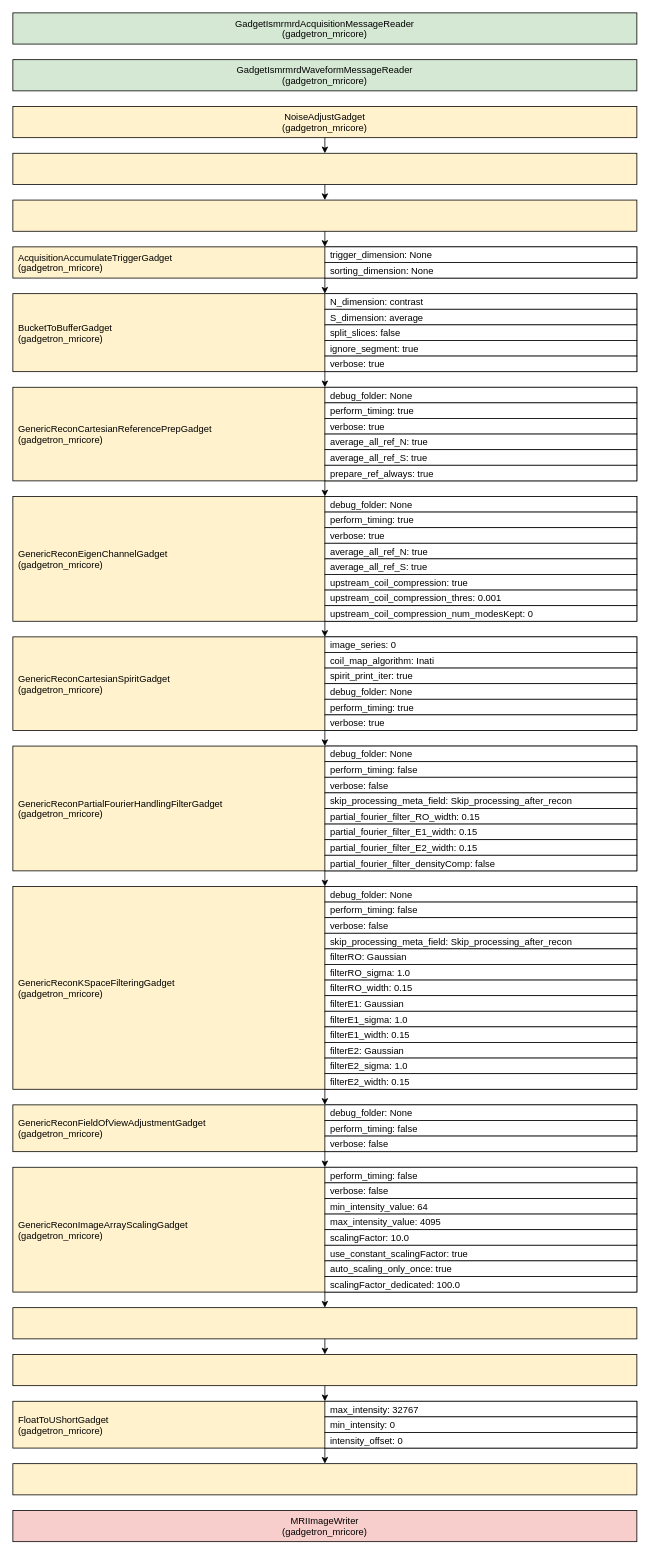
Image size: 650x1555. Some labels were removed from this diagram. The centre of each missing label's shape, as x and y in pixels:
"AsymmetricEchoAdjustROGadget (gadgetron_mricore)" belongs at (324,168).
"ComplexToFloatGadget (gadgetron_mricore)" belongs at (324,1370).
"ImageArraySplitGadget (gadgetron_mricore)" belongs at (324,1323).
"ImageFinishGadget (gadgetron_mricore)" belongs at (324,1479).
"RemoveROOversamplingGadget (gadgetron_mricore)" belongs at (324,215).
